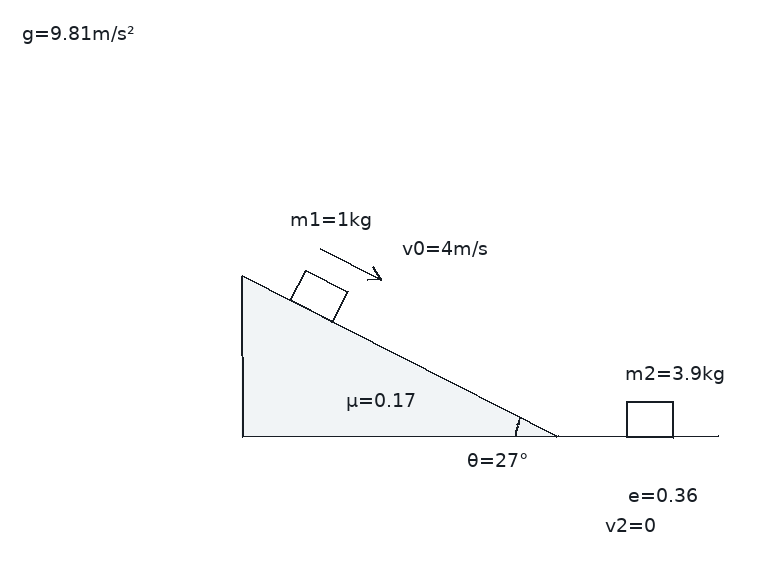block: (288, 268, 349, 323), (625, 400, 675, 438)
ramp: (239, 274, 558, 438)
